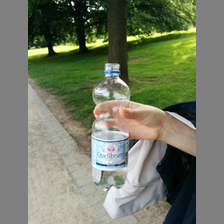water: (93, 62, 129, 191)
